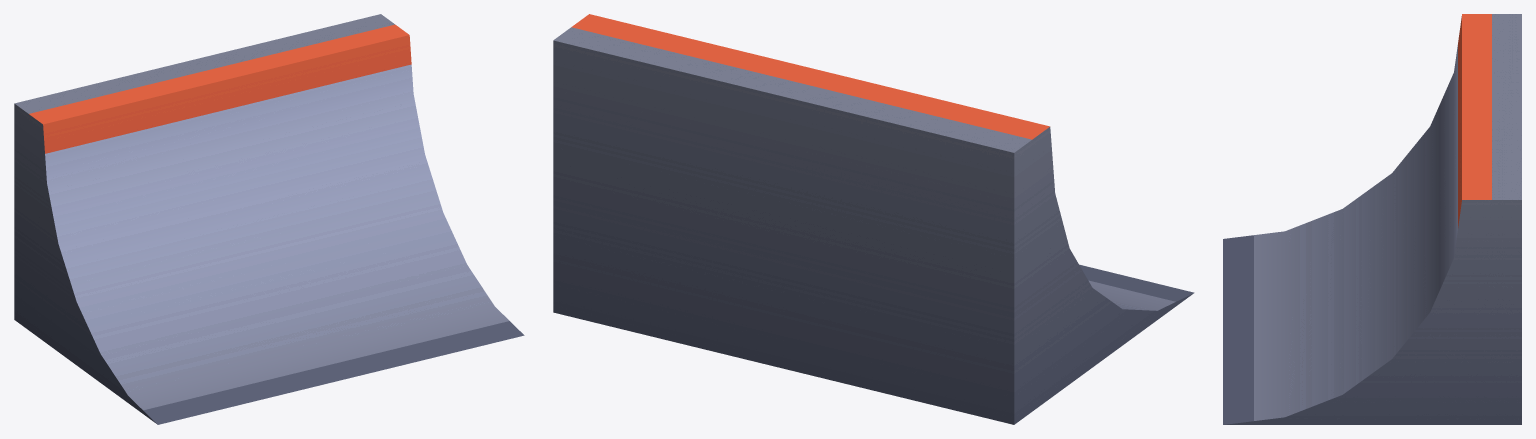
The model's file is bowl-side_lev2.glb.
The picture shows the model from 3 angles, left to right: view 1: azimuth 30°, elevation 25°; view 2: azimuth 150°, elevation 25°; view 3: azimuth 270°, elevation 25°; orthographic projection. The views are drawn at different scales.
Parts seen in each view (by area): view 1: bowl-side_lev2; view 2: bowl-side_lev2; view 3: bowl-side_lev2.
Boxes of the visible parts, bbox=[...] form: bowl-side_lev2: bbox=[14, 14, 524, 424]; bowl-side_lev2: bbox=[553, 14, 1194, 424]; bowl-side_lev2: bbox=[1223, 14, 1521, 424].
Size of the model in its own units: 5.03 by 2.84 by 3.41.
1 material, 1 textured.
